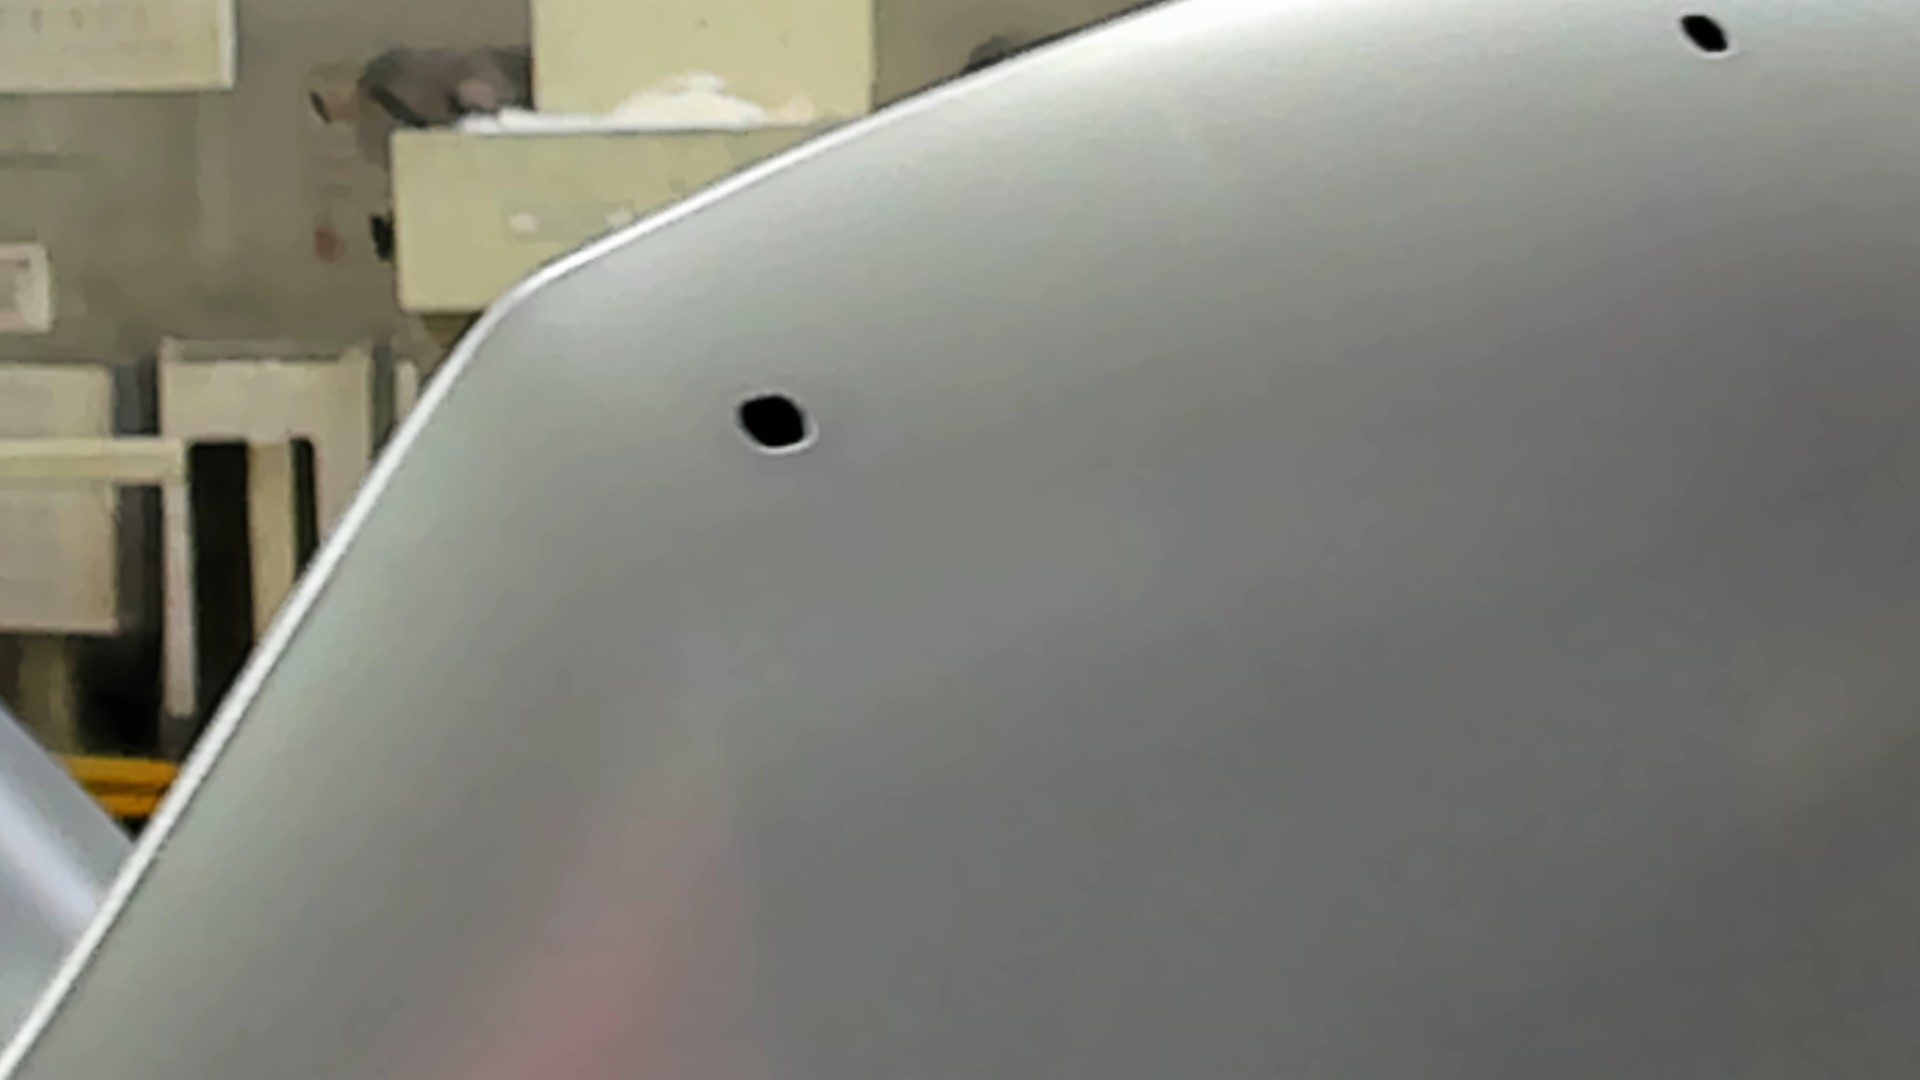amorfo: (733, 392, 822, 455), (1673, 9, 1735, 61)
